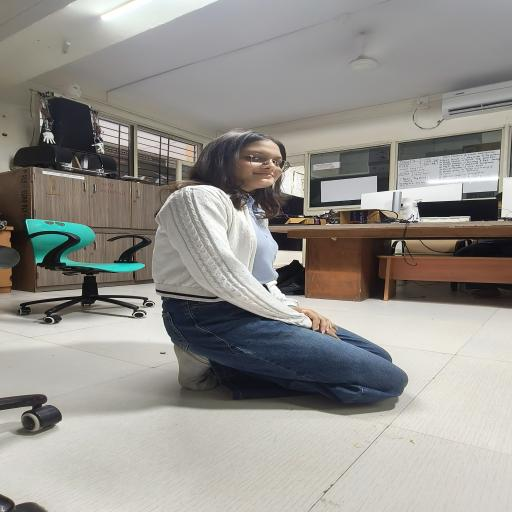survivor: (150, 128, 409, 404)
